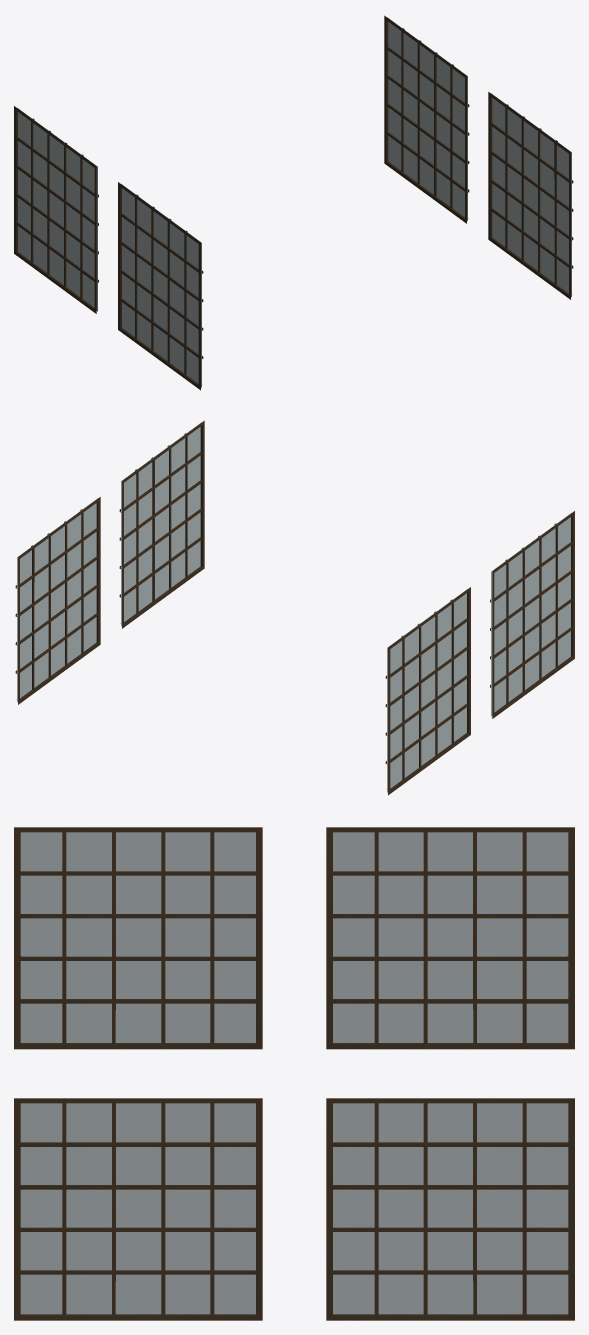
File: SK_onsen_window.FBX
3 views of the same model, one above another, from view 1: azimuth 30°, elevation 25°; view 2: azimuth 150°, elevation 25°; view 3: azimuth 270°, elevation 25° (orthographic). The views are drawn at different scales.
Visible parts, largest first — view 1: SK_onsen_window_alpha, SK_onsen_window; view 2: SK_onsen_window_alpha, SK_onsen_window; view 3: SK_onsen_window_alpha, SK_onsen_window.
Boxes of the visible parts, <box> form: SK_onsen_window_alpha: <box>17,17,571,387</box>; SK_onsen_window: <box>14,15,573,390</box>; SK_onsen_window_alpha: <box>17,422,571,792</box>; SK_onsen_window: <box>15,420,574,795</box>; SK_onsen_window_alpha: <box>20,832,568,1314</box>; SK_onsen_window: <box>14,827,574,1320</box>.
Bounding box in the file's own units: 481 × 182 × 416.
